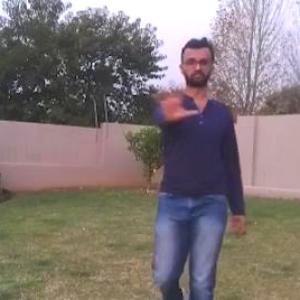follow_hand: (147, 70, 200, 120)
